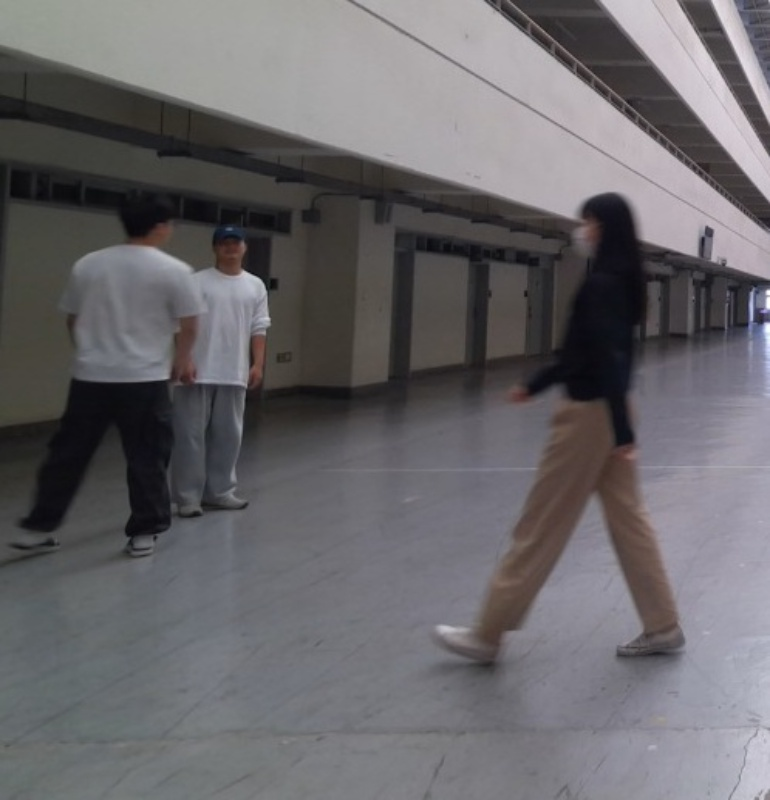person: (427, 190, 688, 657)
